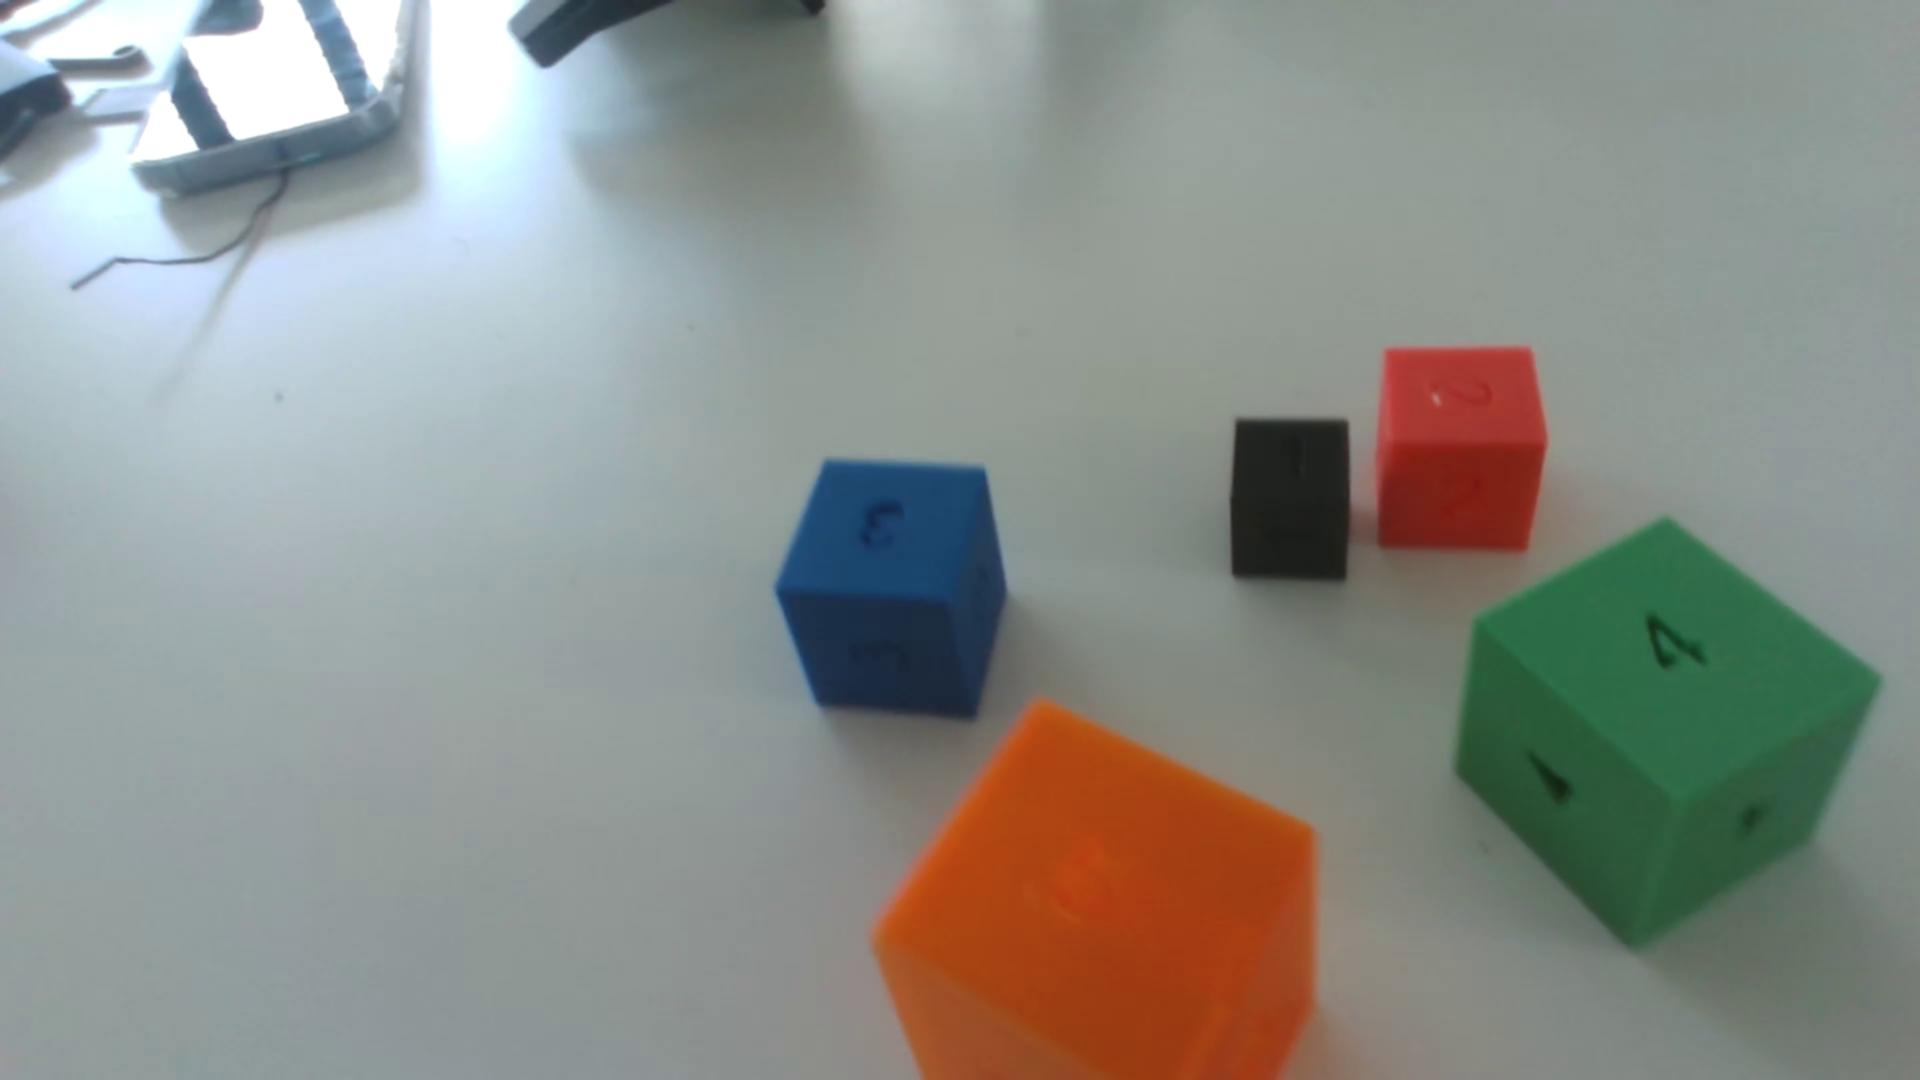black: (1229, 419, 1352, 583)
blue: (775, 460, 1007, 720)
green: (1455, 520, 1880, 949)
orange: (874, 703, 1316, 1080)
red: (1375, 348, 1548, 553)
